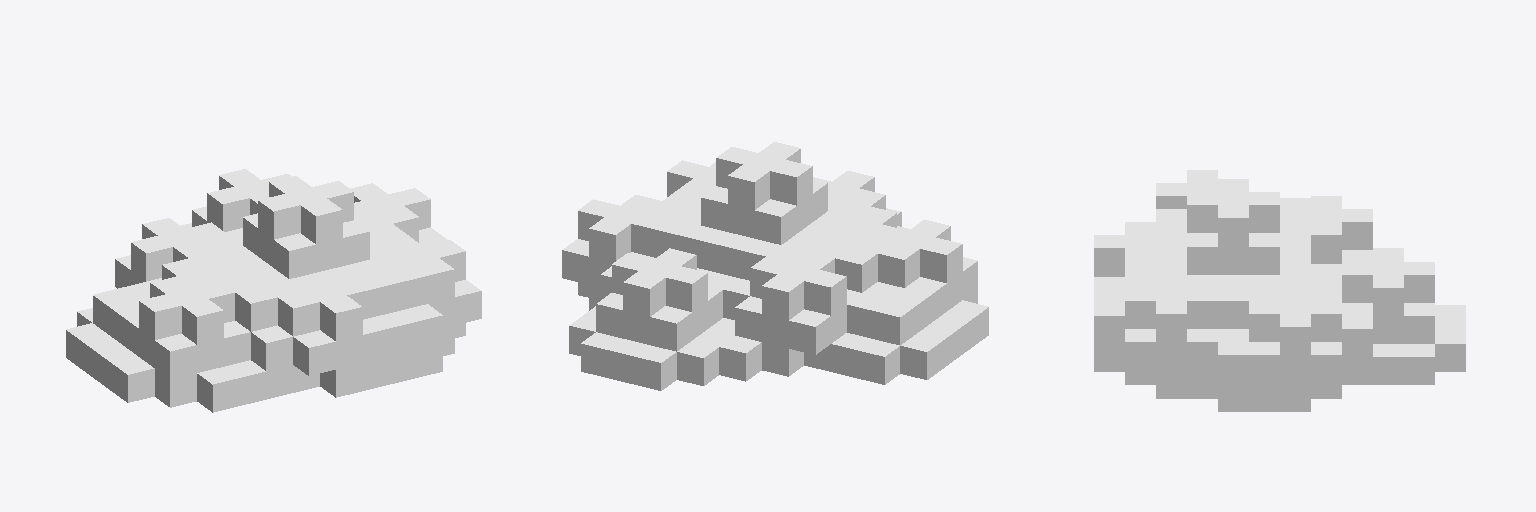
The model's file is ObsidianDeposit_M.obj.
The picture shows the model from 3 angles: view 1: azimuth 30°, elevation 25°; view 2: azimuth 150°, elevation 25°; view 3: azimuth 270°, elevation 25°; orthographic projection.
Visible parts, largest first — view 1: ObsidianDeposit_M; view 2: ObsidianDeposit_M; view 3: ObsidianDeposit_M.
Boxes of the visible parts, x1,y1,x2,y2 form: ObsidianDeposit_M: [66, 169, 481, 412]; ObsidianDeposit_M: [562, 142, 988, 390]; ObsidianDeposit_M: [1094, 170, 1465, 411].
Bounding box in the file's own units: 1.3 × 0.5 × 1.2.